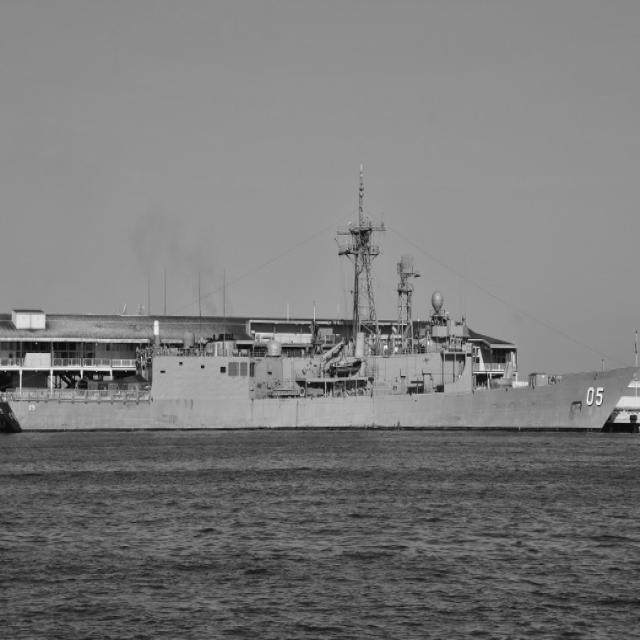Fragata: (1, 158, 640, 438)
